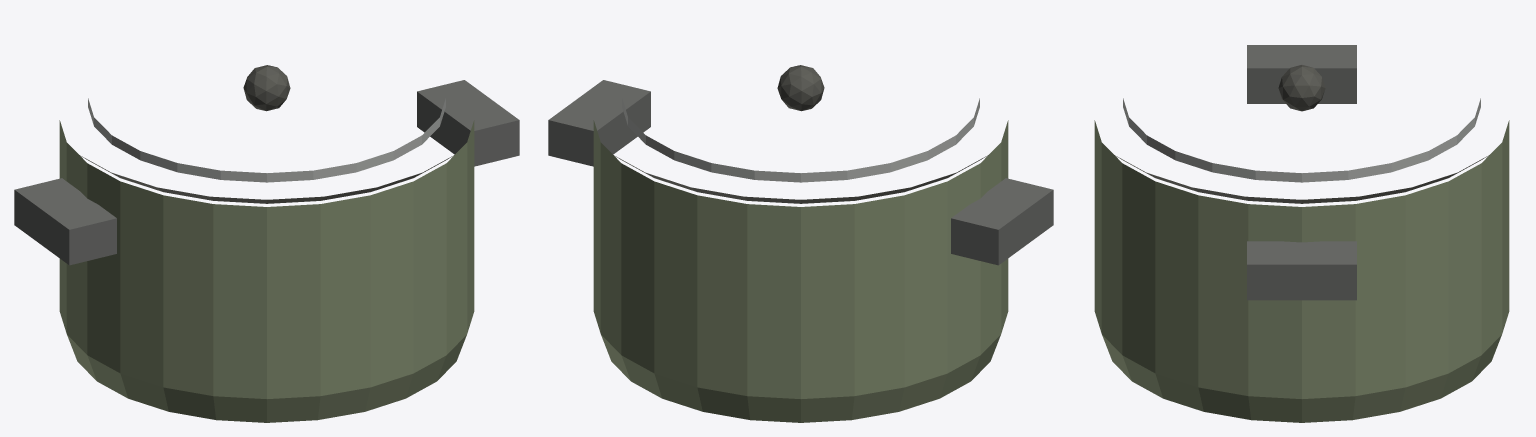
Rendered from kochtopf_emaille_gross.glb.
The picture shows the model from 3 angles, left to right: view 1: azimuth 30°, elevation 25°; view 2: azimuth 150°, elevation 25°; view 3: azimuth 270°, elevation 25°; orthographic projection.
Visible parts, largest first — view 1: kochtopf_emaille_gross_n1; view 2: kochtopf_emaille_gross_n1; view 3: kochtopf_emaille_gross_n1.
Boxes of the visible parts, box(x1,y1,x2,y2) form: kochtopf_emaille_gross_n1: box(14, 65, 519, 422); kochtopf_emaille_gross_n1: box(548, 65, 1053, 422); kochtopf_emaille_gross_n1: box(1094, 45, 1509, 422).
Bounding box in the file's own units: 0.331 × 0.192 × 0.28.
